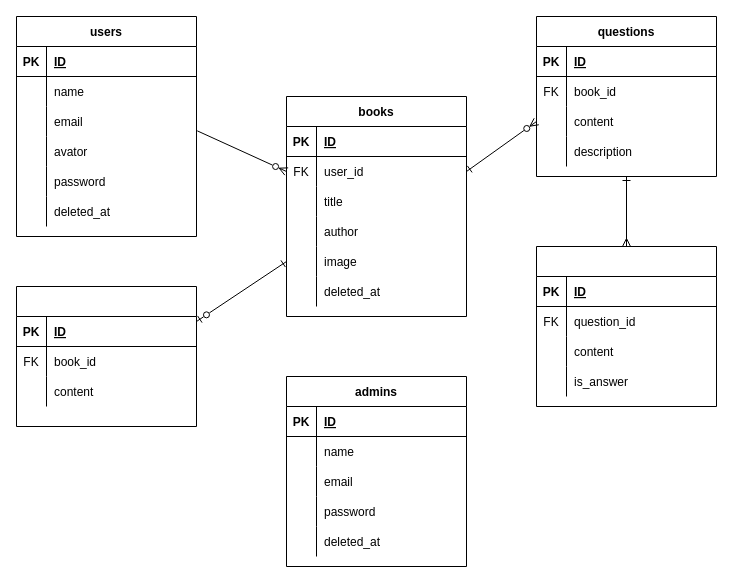
Some shapes in this 733 by 583 pixel diagram are drawn without their labels. Each missing label, with the box of its shape:
choices: (536, 246, 716, 406)
summaries: (16, 286, 196, 426)
